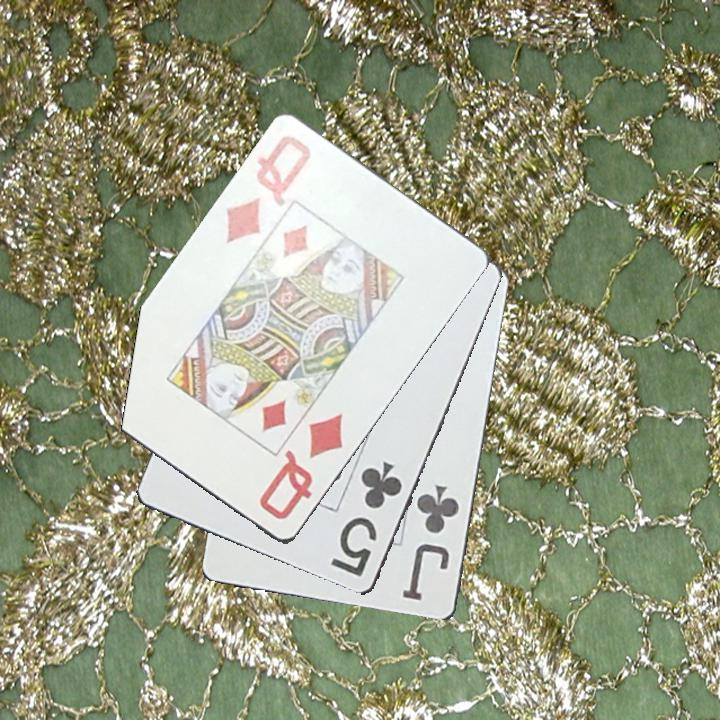5c: (327, 458, 406, 581)
Jc: (399, 481, 463, 605)
Qd: (222, 132, 315, 247), (255, 411, 346, 524)
